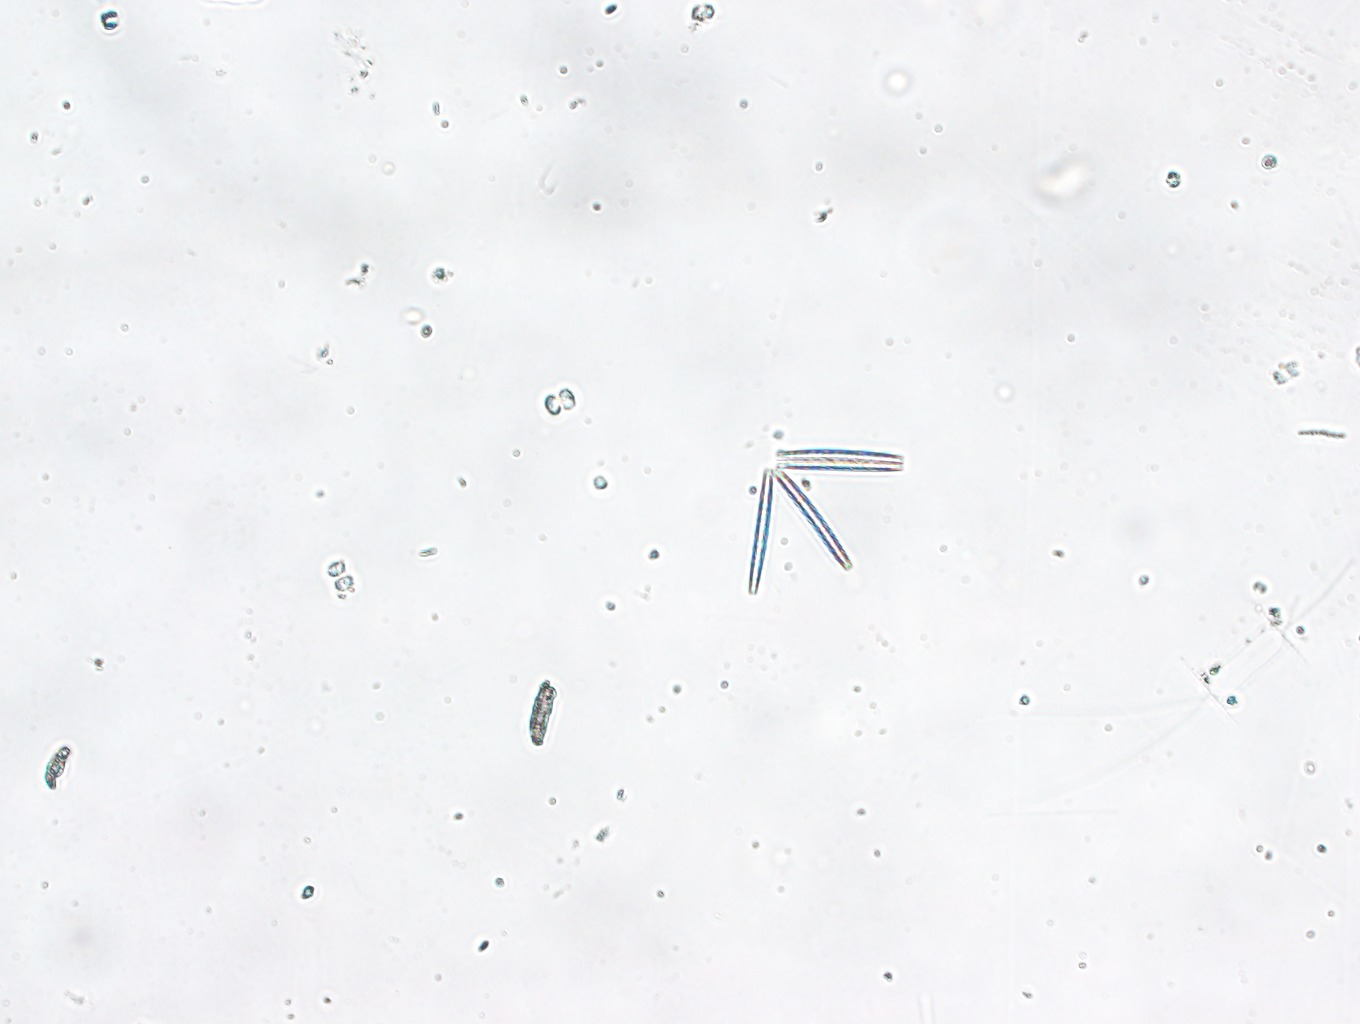thalassionema nitzschioides: (731, 433, 908, 600)
